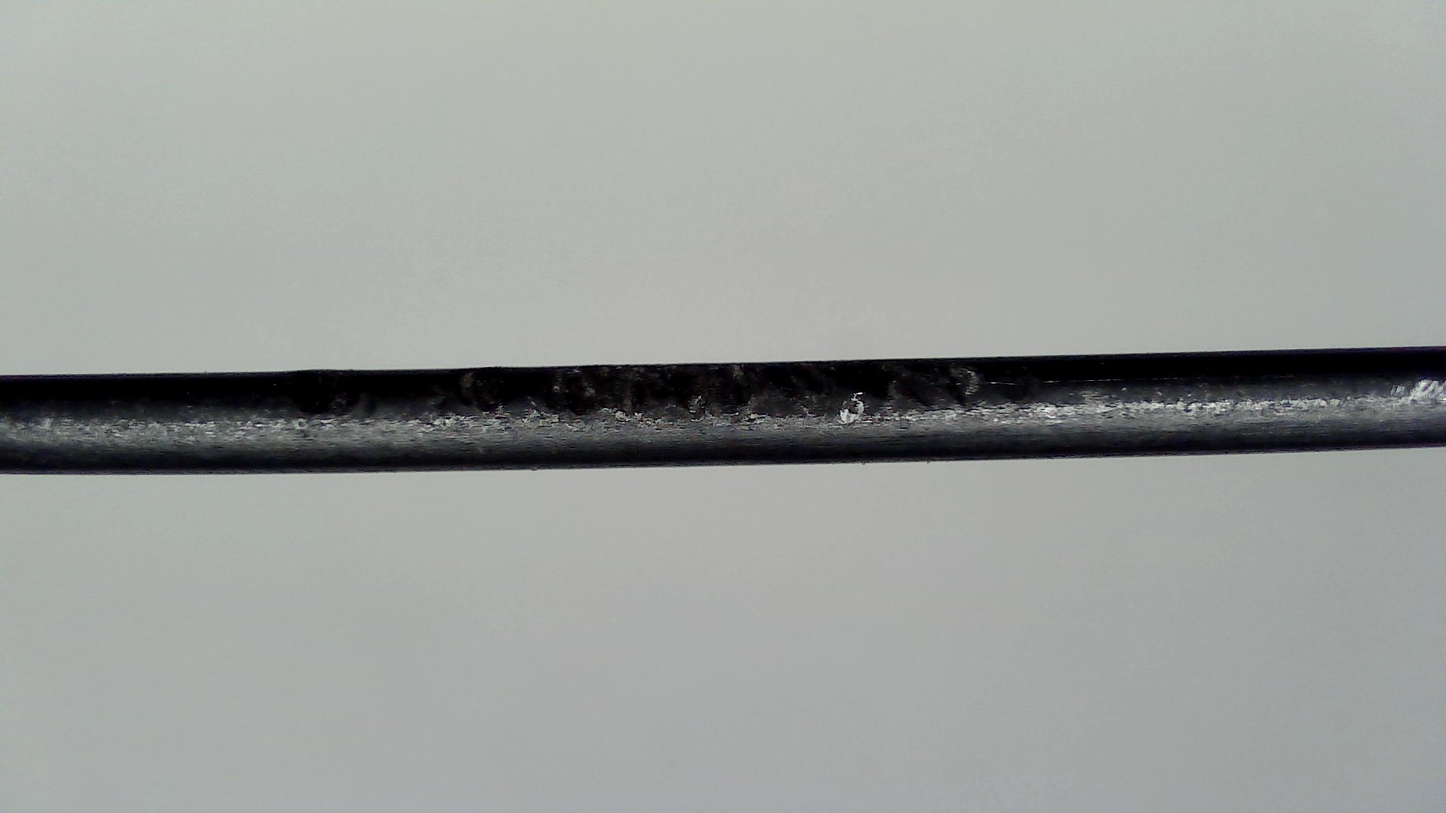defect: (482, 352, 1070, 414)
